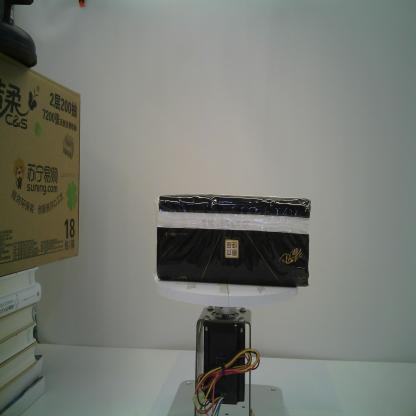Tissue: (153, 192, 312, 291)
